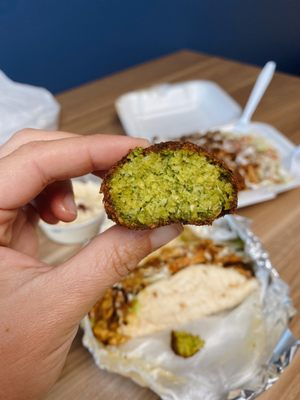curry: (99, 140, 241, 231)
